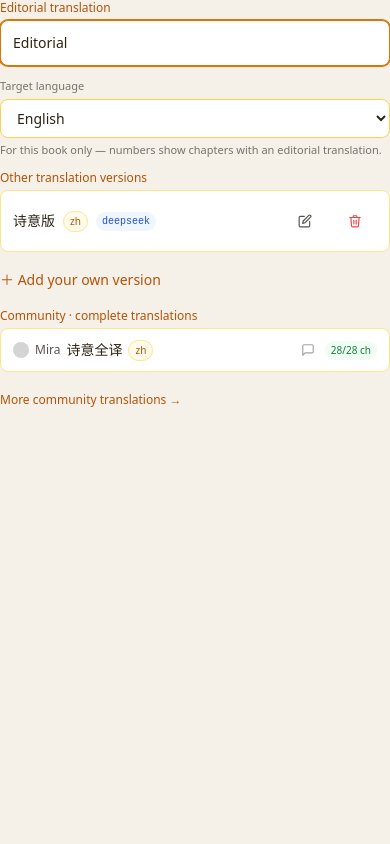
Test: the chat button on a version opens its likes-and-comments dialog
Click the button with test id "version-discuss-77". click: [308, 350]
box: top-left (301, 343), bottom-right (315, 357)
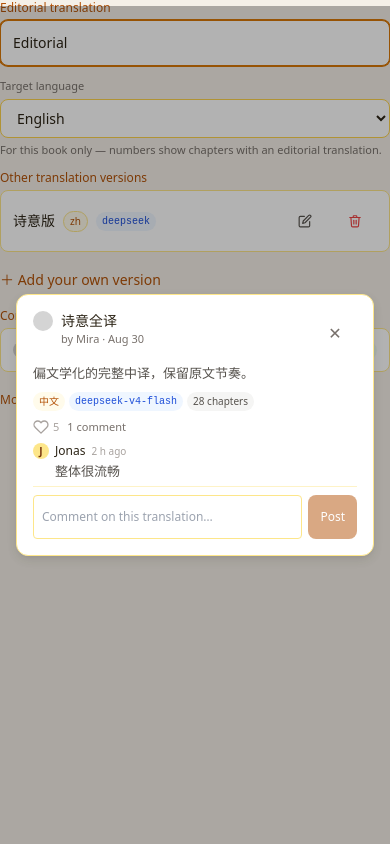
Expected: the element with test id "version-discussion" shows "诗意全译", top-left (61, 311), bottom-right (117, 330)
Expected: the element with test id "version-discussion" shows "by Mira", top-left (16, 294), bottom-right (374, 556)
Expected: the element with test id "version-discussion" shows "偏文学化的完整中译", top-left (33, 364), bottom-right (254, 382)
Click the button with test id "version-like". click: [46, 427]
box: top-left (33, 419), bottom-right (59, 435)
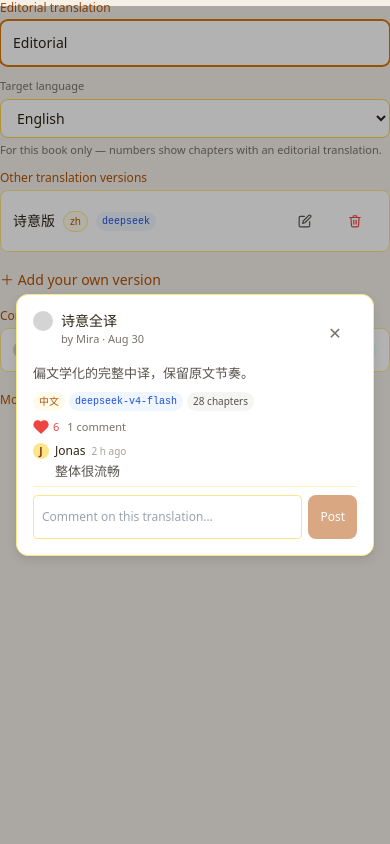
Expected: the button with test id "version-like" reads "6", top-left (33, 419), bottom-right (59, 435)
Type "我也喜欢" into the field named "Version comment". click: [168, 517]
box: top-left (33, 495), bottom-right (302, 539)
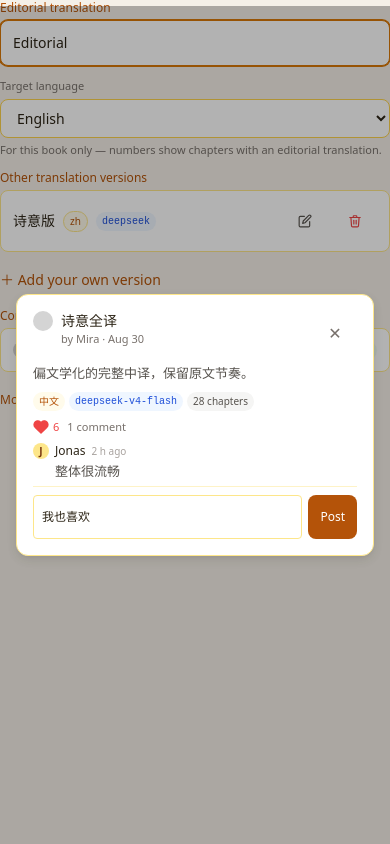
Click the button "Post". click: [333, 517]
box: top-left (308, 495), bottom-right (357, 539)
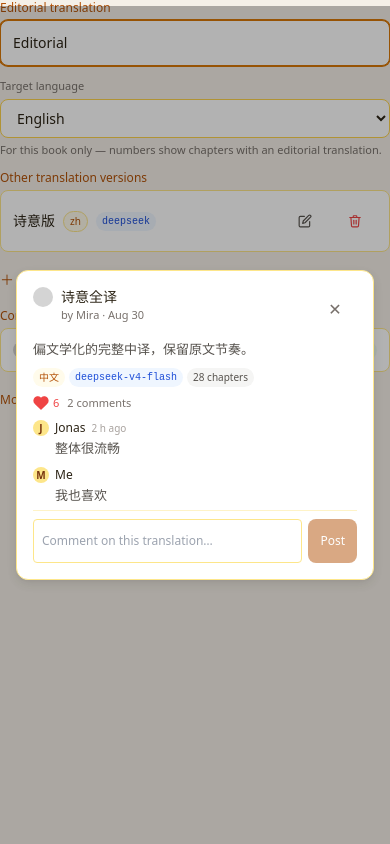
Expected: the element with test id "version-comment-302" is shown, top-left (33, 466), bottom-right (107, 504)
Click the button named "Close discussion". click: [335, 309]
box: top-left (313, 287), bottom-right (357, 331)
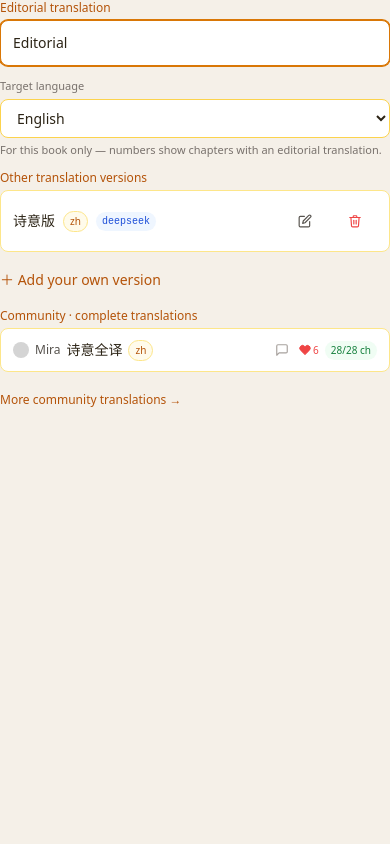
Expected: the element with test id "version-discussion" is gone
